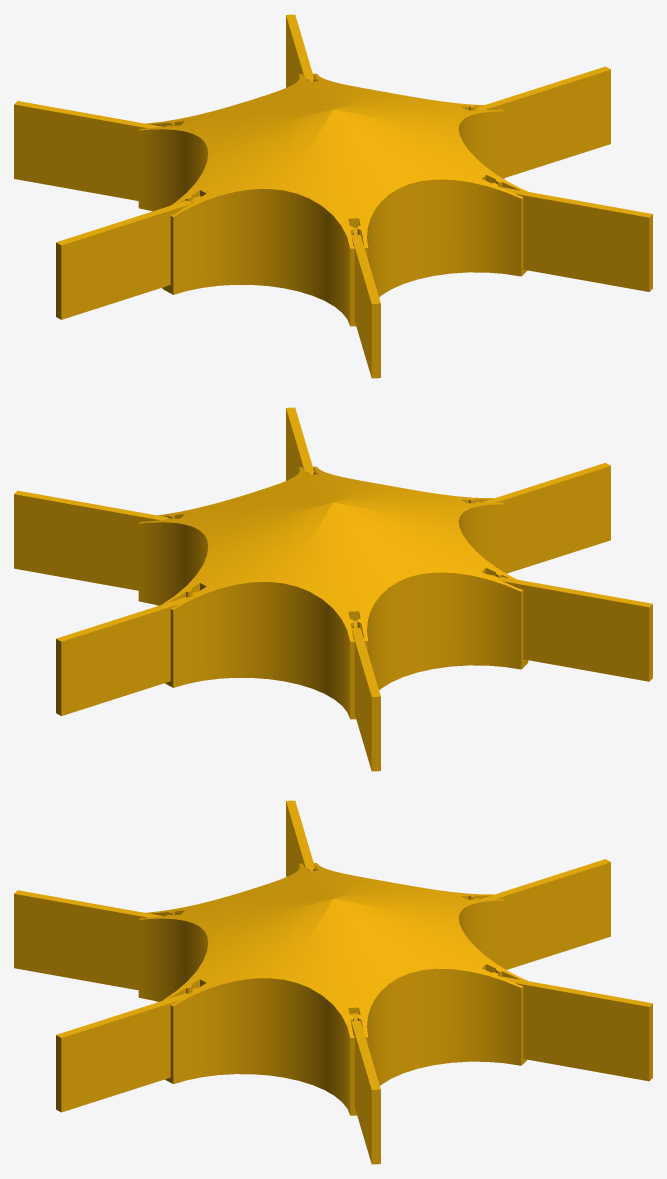
3 renders of one model, top to bottom at view 1: azimuth 30°, elevation 25°; view 2: azimuth 150°, elevation 25°; view 3: azimuth 270°, elevation 25°, orthographic.
Visible parts, largest first — view 1: Spindexer Third (×3), Arm 4, Arm 1, Arm 6, Arm 3, Arm 5, Arm 2; view 2: Spindexer Third (×3), Arm 6, Arm 3, Arm 2, Arm 5, Arm 1, Arm 4; view 3: Spindexer Third (×3), Arm 2, Arm 5, Arm 4, Arm 1, Arm 3, Arm 6.
Part boxes in pixels (x1,y1,x2,y2): Spindexer Third (×3): [138, 73, 527, 326]; Arm 4: [501, 187, 652, 291]; Arm 1: [14, 101, 162, 200]; Arm 6: [56, 196, 201, 319]; Arm 3: [475, 66, 610, 177]; Arm 5: [351, 227, 380, 378]; Arm 2: [286, 14, 313, 87]; Spindexer Third (×3): [138, 466, 528, 719]; Arm 6: [487, 574, 652, 681]; Arm 3: [14, 490, 175, 590]; Arm 2: [56, 597, 188, 715]; Arm 5: [480, 463, 610, 573]; Arm 1: [351, 620, 380, 771]; Arm 4: [286, 407, 313, 480]; Spindexer Third (×3): [138, 863, 527, 1115]; Arm 2: [502, 976, 652, 1081]; Arm 5: [14, 890, 162, 990]; Arm 4: [56, 993, 188, 1112]; Arm 1: [480, 859, 610, 969]; Arm 3: [349, 1013, 380, 1164]; Arm 6: [286, 800, 314, 876].
Size of the model in its own units: 0.4796 by 0.1 by 0.4472.
